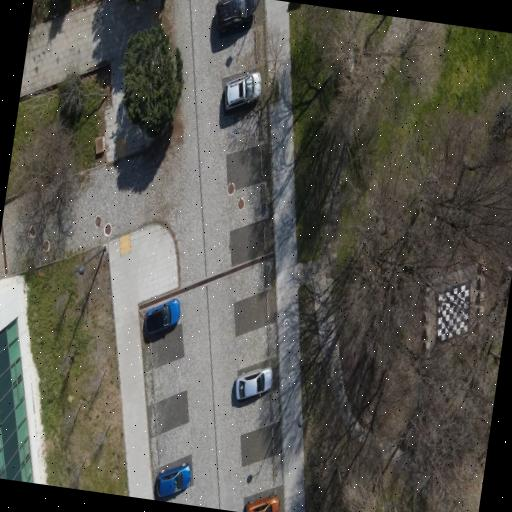car: (142, 298, 179, 336), (224, 71, 260, 109), (234, 366, 272, 398), (215, 0, 254, 31), (156, 463, 191, 496), (245, 492, 278, 511)
